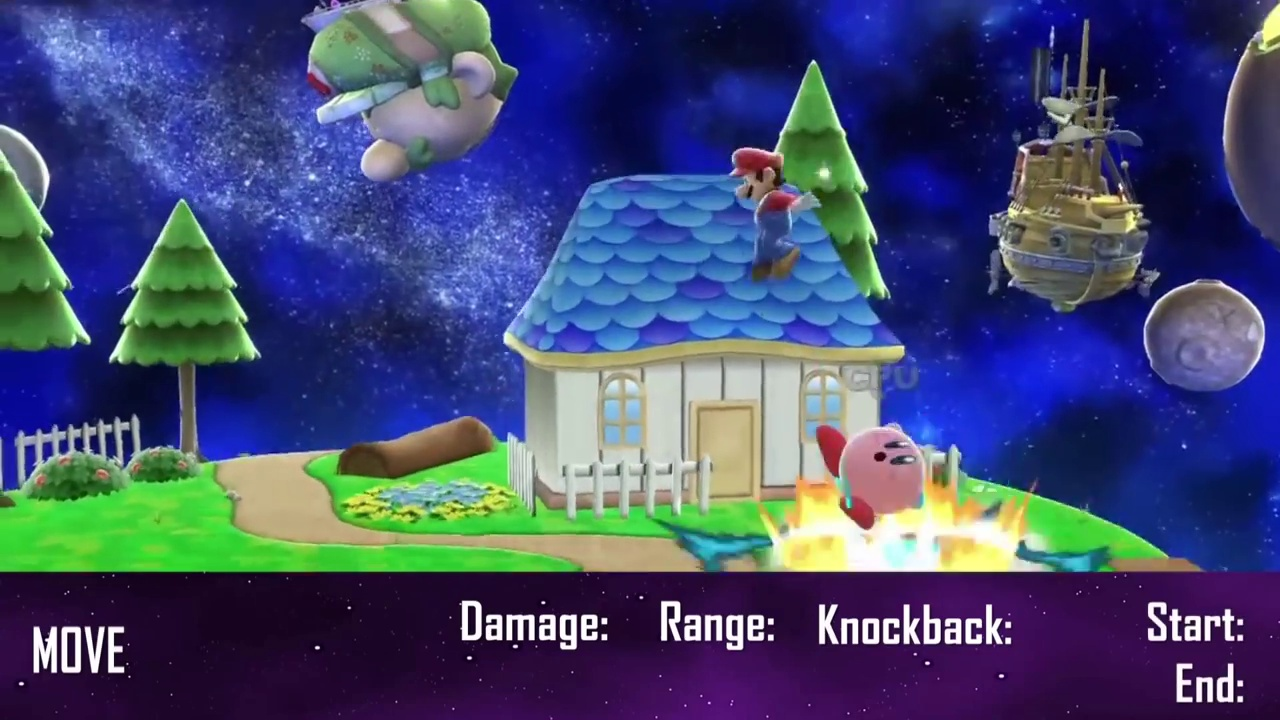Mario: (731, 149, 822, 280)
